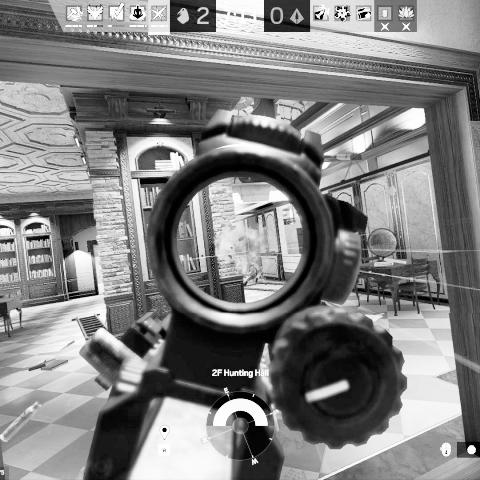Character: (244, 255, 264, 286)
Head: (252, 255, 257, 262)
